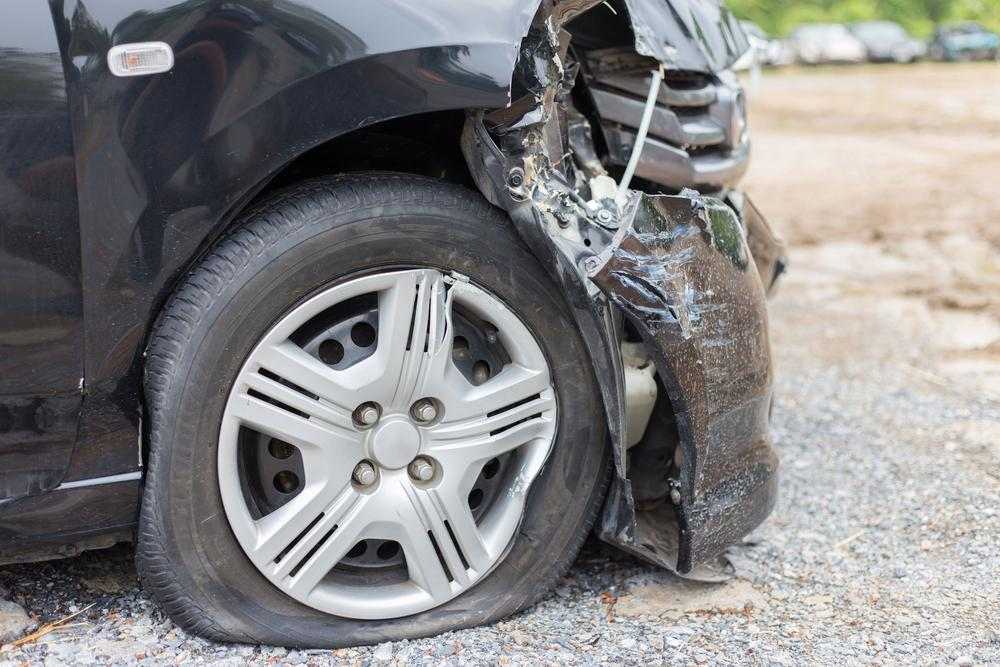dent: (113, 31, 298, 282)
tire flat: (137, 164, 615, 648)
